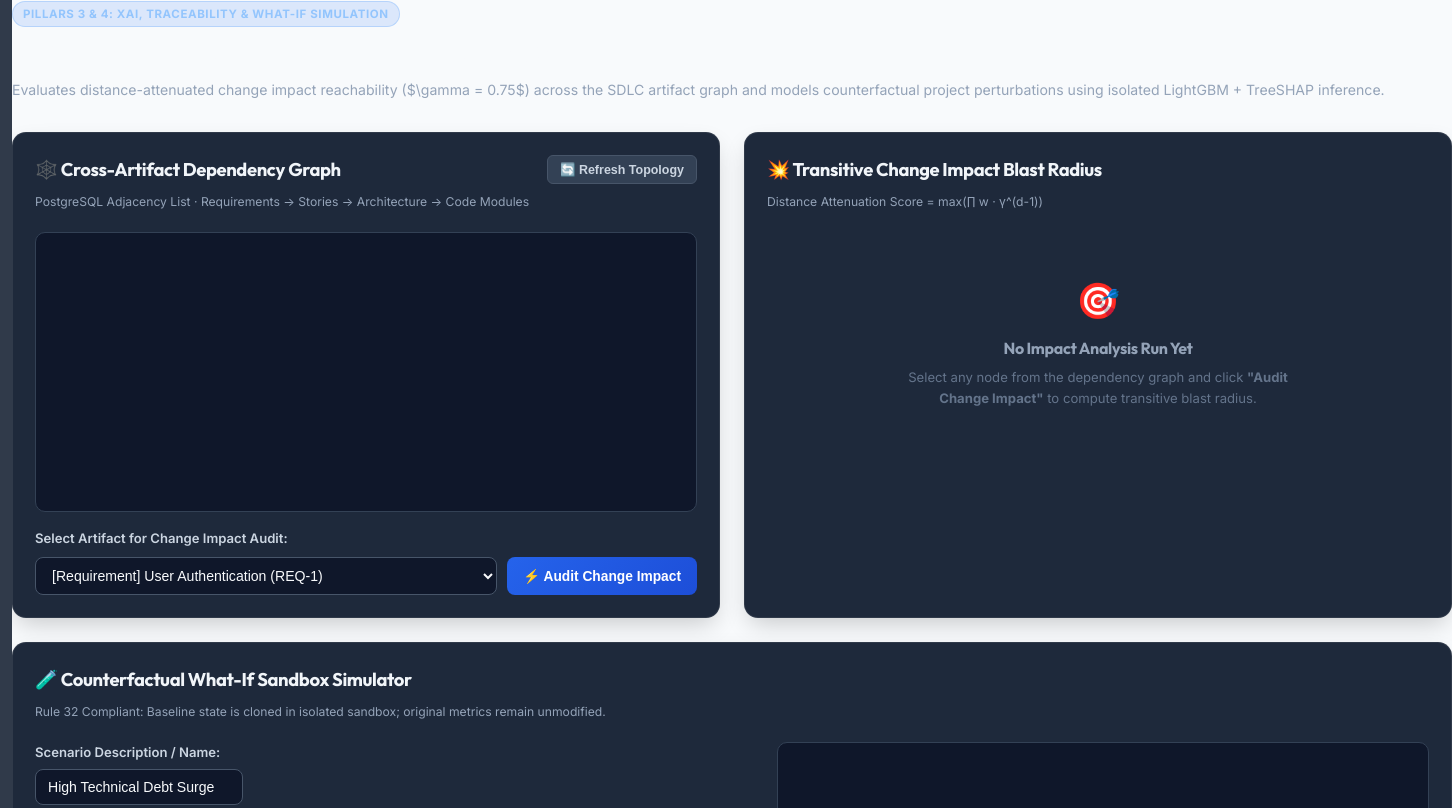
it: TraceabilityWhatIfDashboard › renders traceability graph, audits impact, and displays blast radius results
Check: the heading "🕸️ Cross-Artifact Dependency Graph" is shown, box [35,158,341,180]
What coordinates should you click on to do the following:
click the button "⚡ Audit Change Impact"
I would click on:
 (602, 576)
Its box is [507,556,697,594].
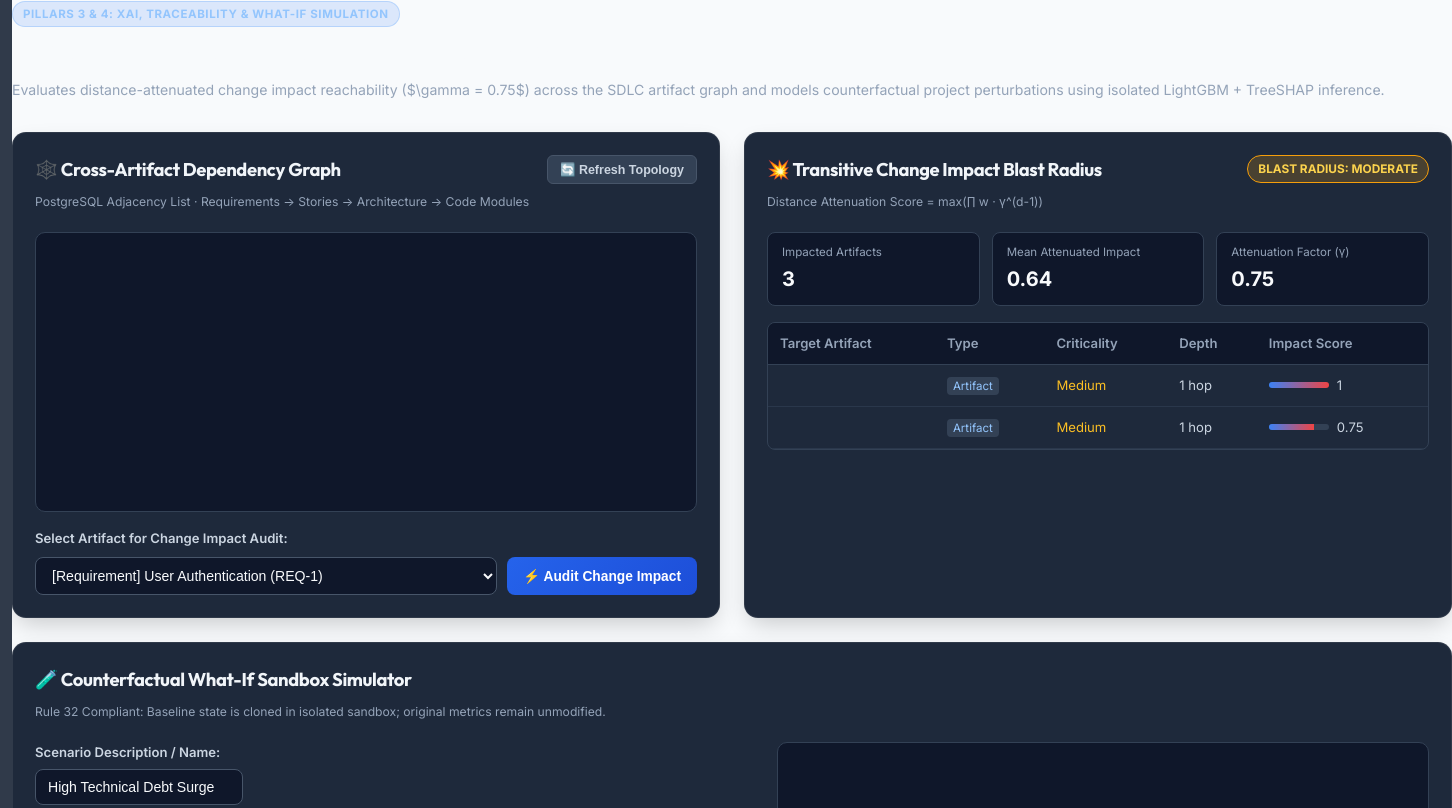
Check: the text "Blast Radius: Moderate" is shown, box [1247,154,1429,183]
Check: the text "Mean Attenuated Impact" is shown, box [1007,244,1140,258]
